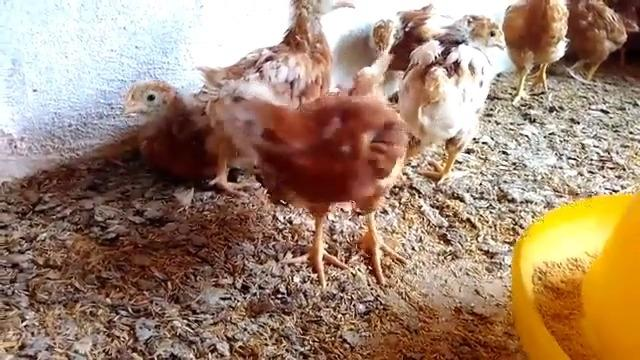Normal: (407, 14, 519, 179)
